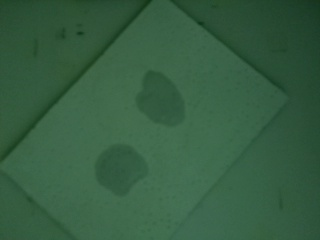Water_detected: (139, 74, 188, 120), (97, 151, 141, 196)
